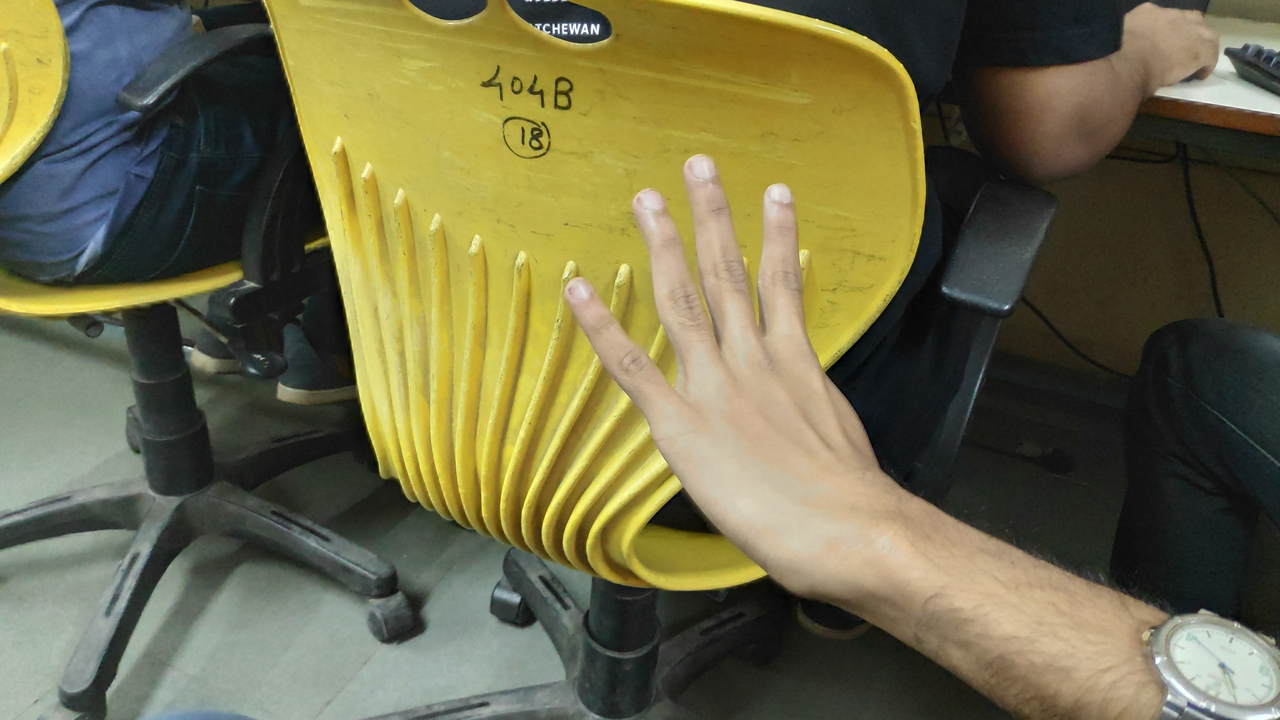fingertip: (550, 248, 608, 310), (624, 174, 672, 226), (674, 144, 728, 190), (756, 174, 800, 218)
